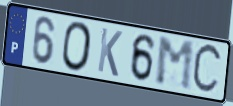6: (31, 15, 58, 66), (129, 32, 156, 83)
C: (190, 42, 224, 97)
K: (95, 26, 124, 80)
M: (155, 36, 195, 93)
O: (61, 20, 94, 74)
